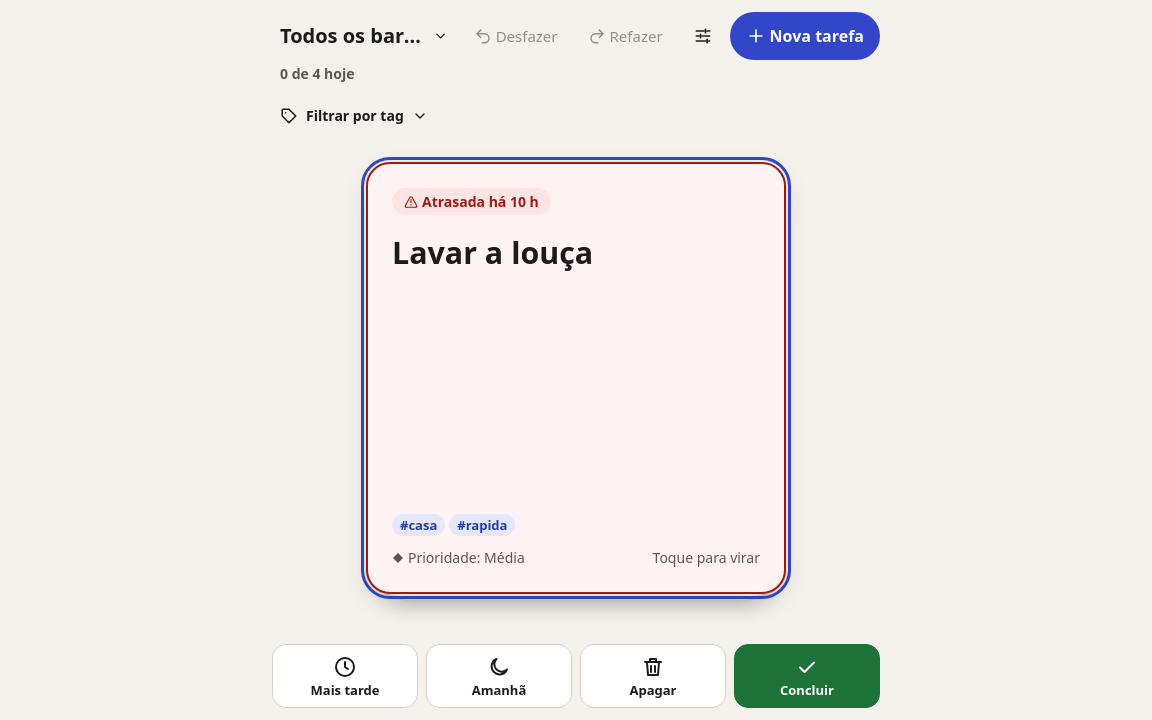
Test case: editing › saving without changes closes the sheet and announces nothing
Type keys "e"
(page scrolled)
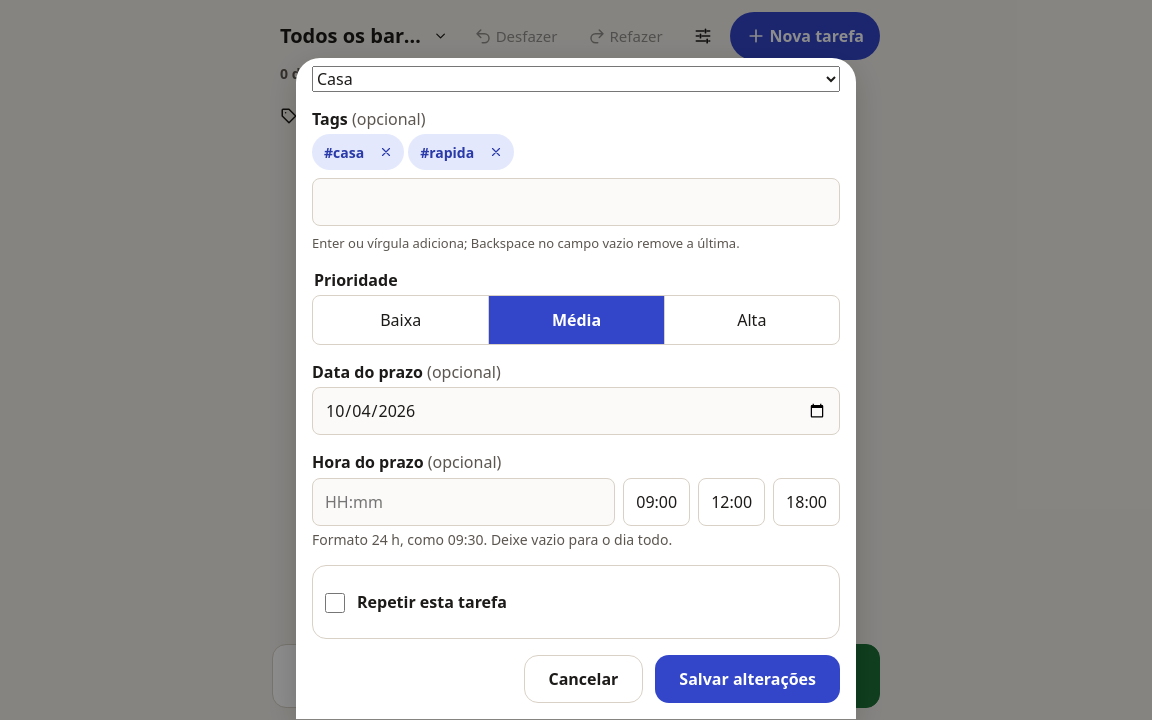
Click the button "Salvar alterações" at (748, 679), box [655, 655, 840, 703]
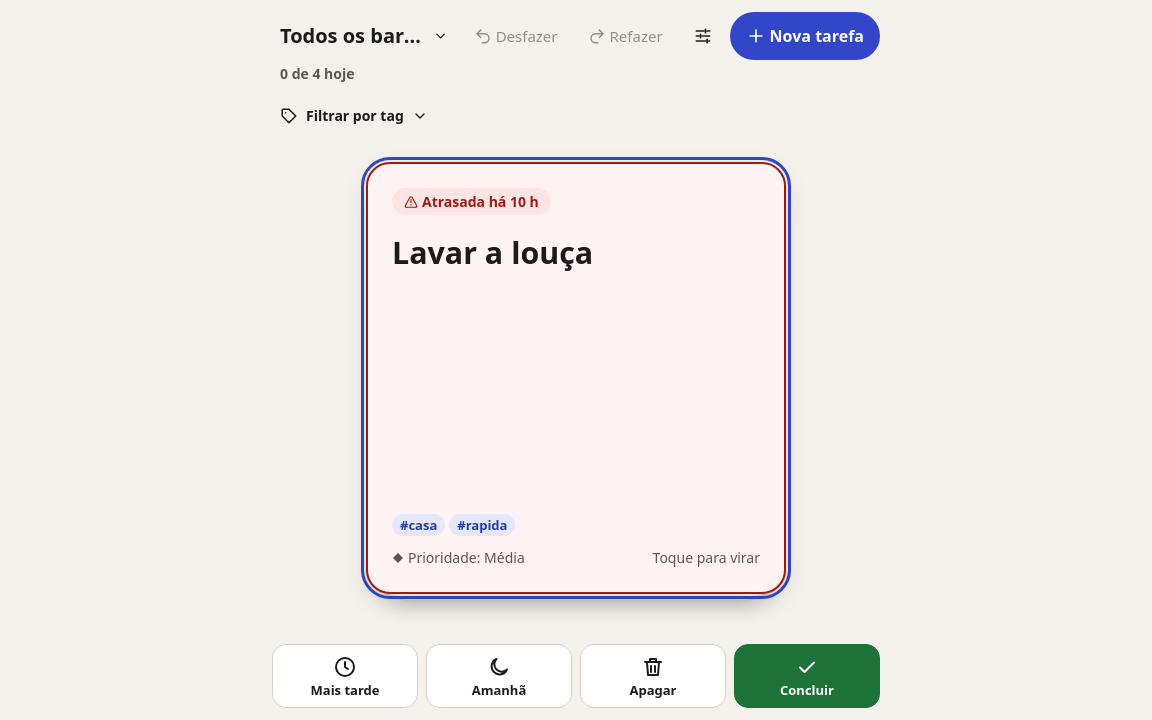
Now the dialog is gone
